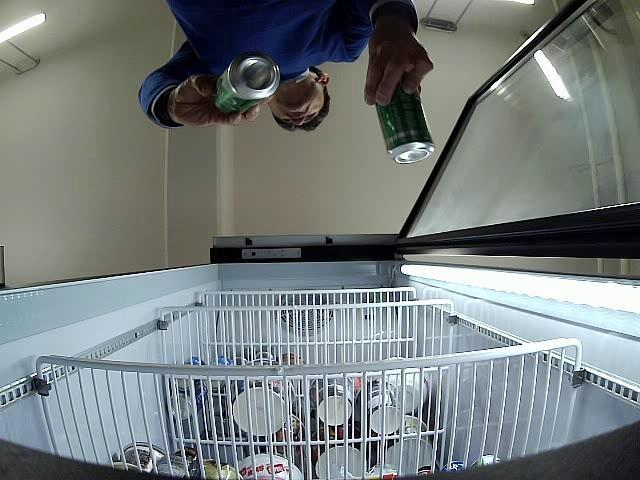12_chilsungCider: (375, 75, 435, 164), (212, 52, 280, 116)
